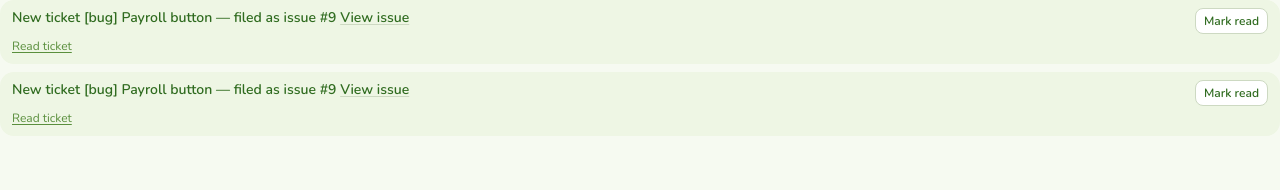
Scenario: the card expands to show the ticket › expands independently per row — one open card does not open the others
This screenshot has width=1280, height=190.
Click the 1st button with test id "notification-expand".
click(42, 46)  # box [12,38,72,54]
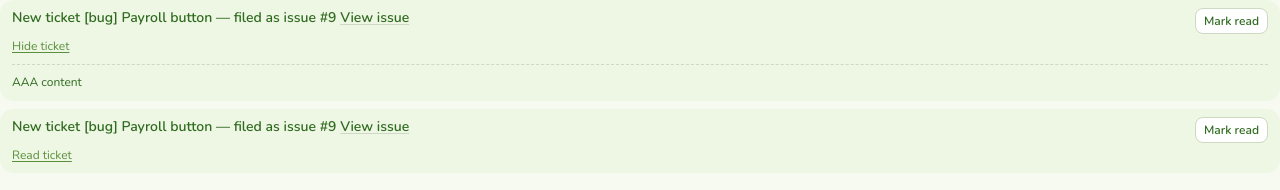
Check: the number of elements with test id "notification-body" is 1, box [12,64,1268,92]
Check: the element with test id "notification-body" shows "AAA", box [12,74,82,90]
